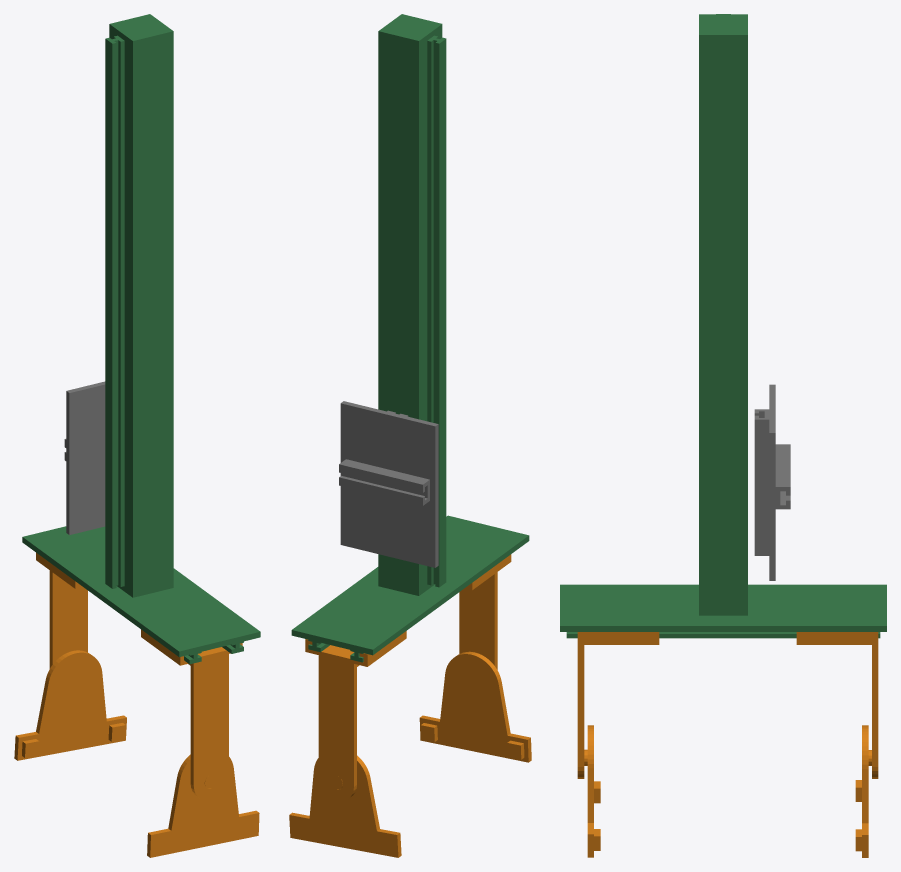
File: 铆接线-抓手.obj
3 views of the same model, side by side, from view 1: azimuth 30°, elevation 25°; view 2: azimuth 150°, elevation 25°; view 3: azimuth 270°, elevation 25° (orthographic). The views are drawn at different scales.
Bounding box in the file's own units: 610 × 4088 × 1500.
